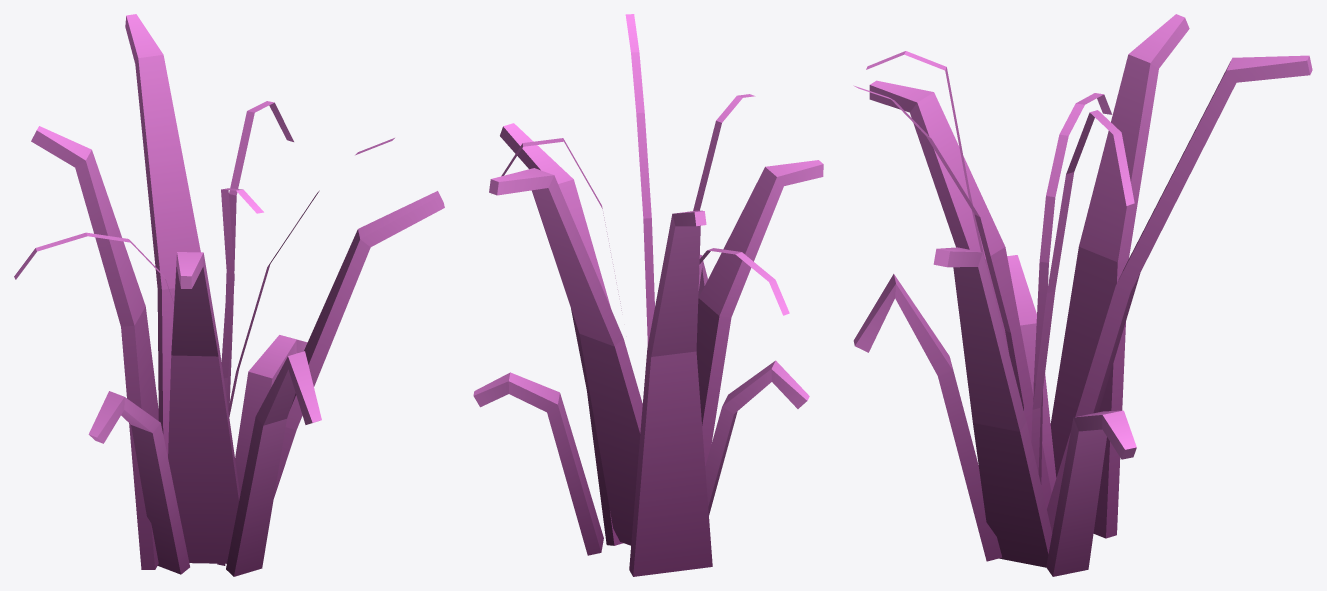
File: SpringGrass2.fbx
3 views of the same model, side by side, from view 1: azimuth 30°, elevation 25°; view 2: azimuth 150°, elevation 25°; view 3: azimuth 270°, elevation 25° (orthographic). The views are drawn at different scales.
Parts seen in each view (by area): view 1: SpringGrass2; view 2: SpringGrass2; view 3: SpringGrass2.
Boxes of the visible parts, left/top/right/bottom form: SpringGrass2: left=14, top=14, right=444, bottom=576; SpringGrass2: left=473, top=14, right=823, bottom=576; SpringGrass2: left=853, top=14, right=1312, bottom=576.
Size of the model in its own units: 146 by 179 by 142.
